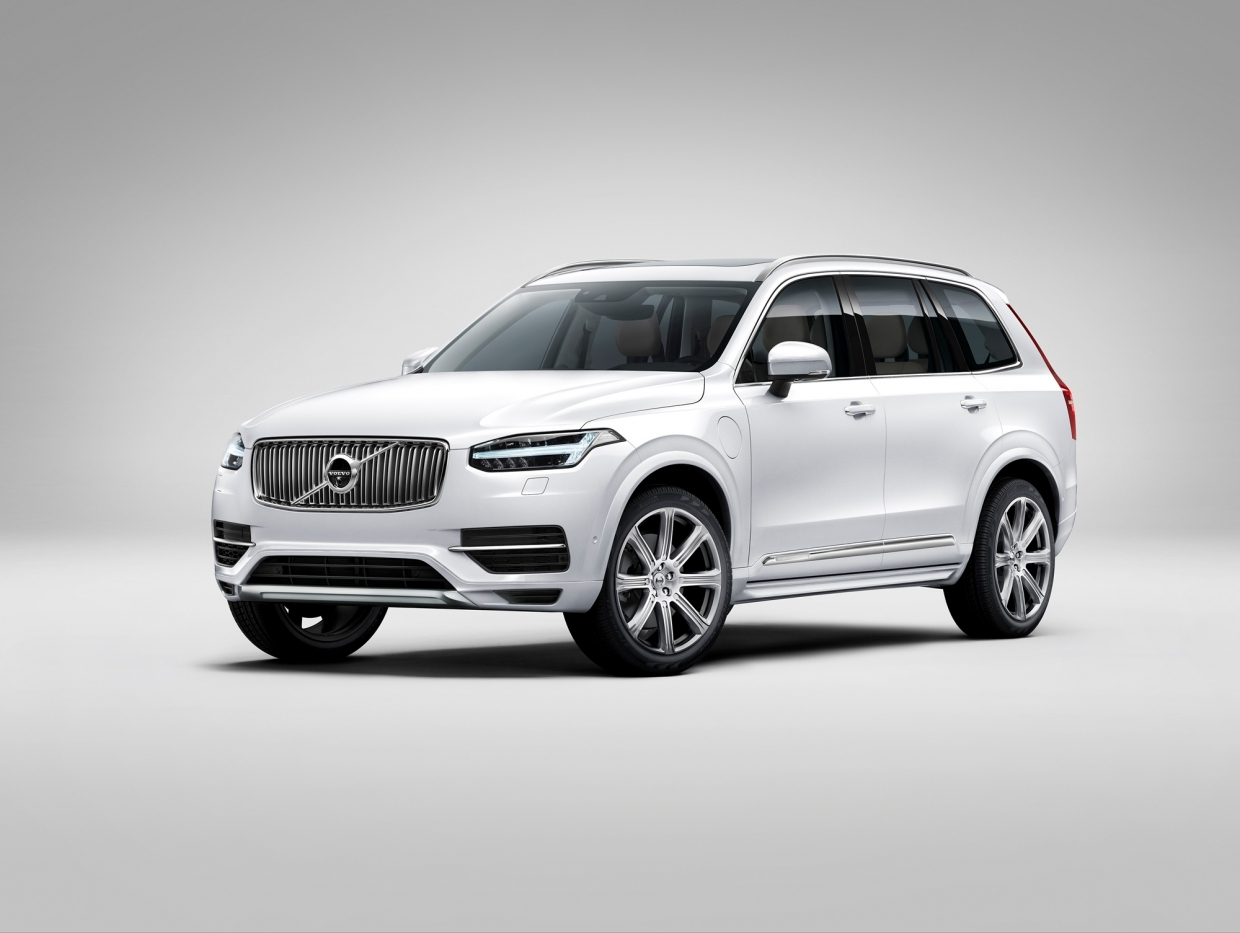pickup: (204, 252, 1086, 673)
